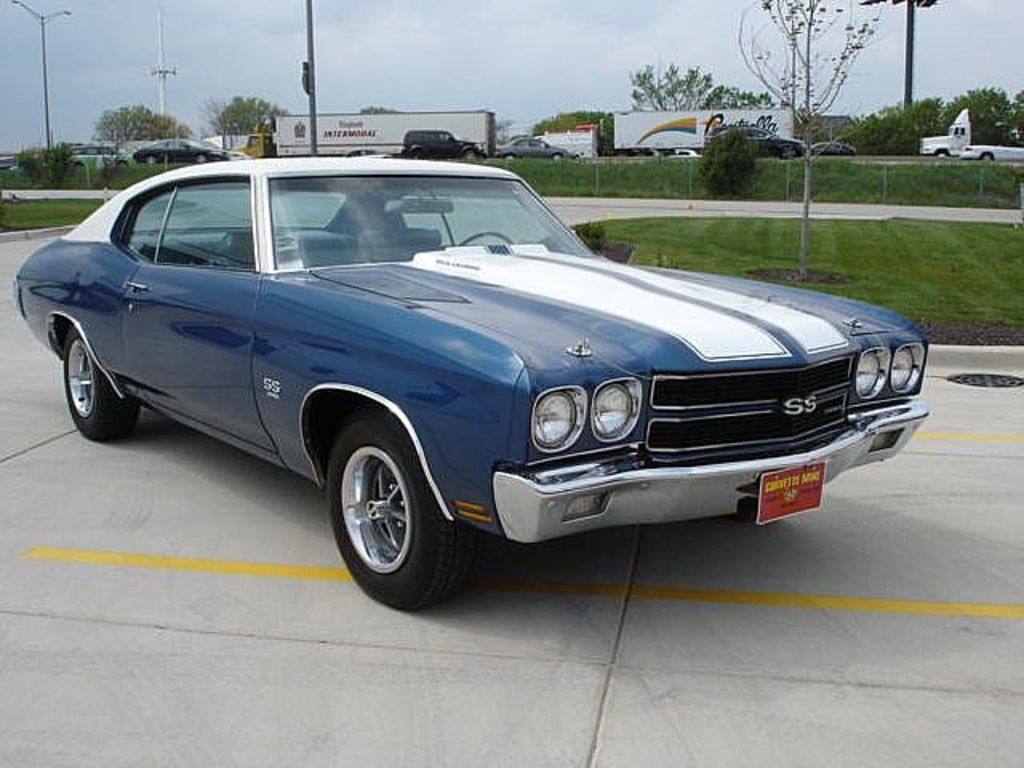Car: (9, 156, 931, 611), (134, 139, 233, 166), (715, 129, 803, 155), (497, 137, 569, 155)
